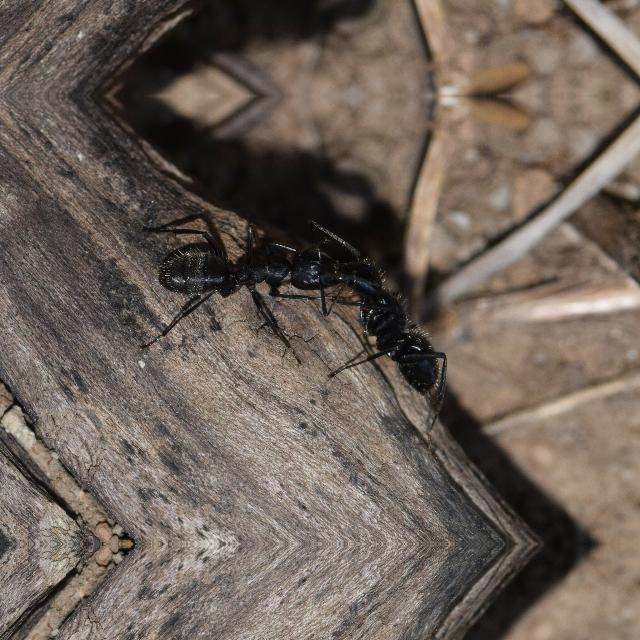Camponotus: (292, 216, 480, 408), (129, 214, 367, 330)
